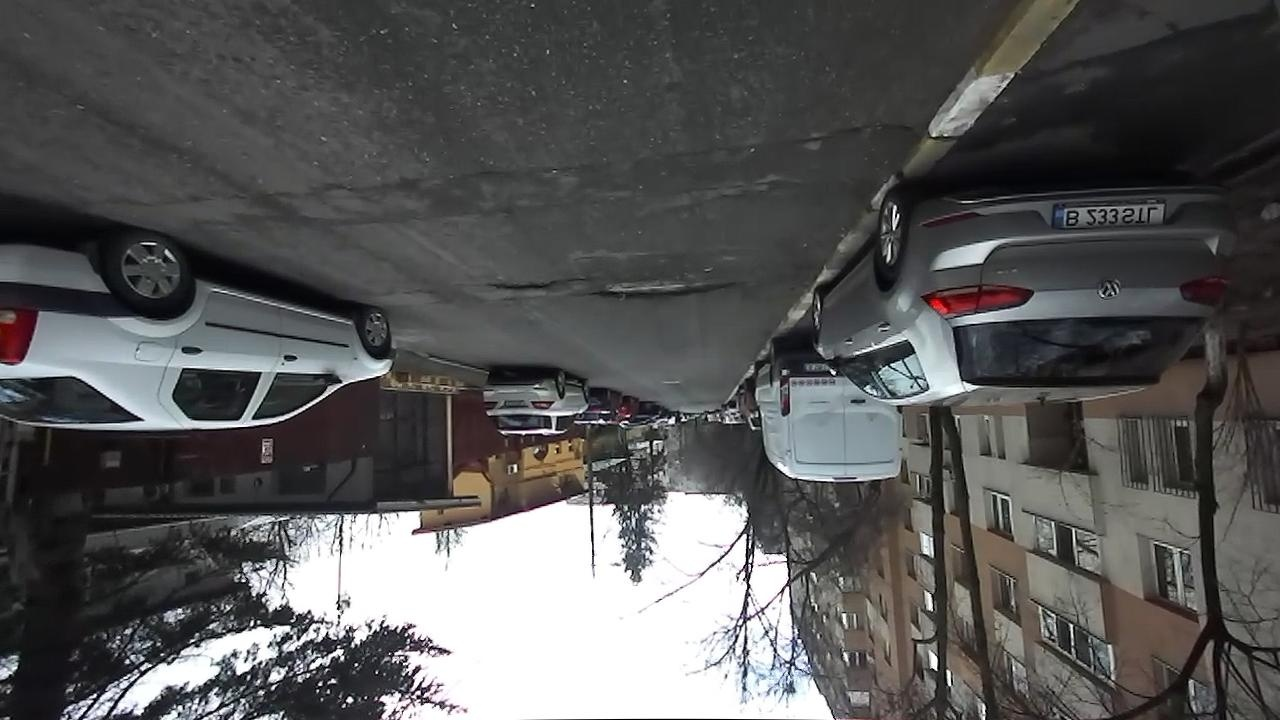pothole: (786, 113, 911, 151), (589, 273, 738, 303), (485, 277, 562, 294), (566, 277, 585, 282)
